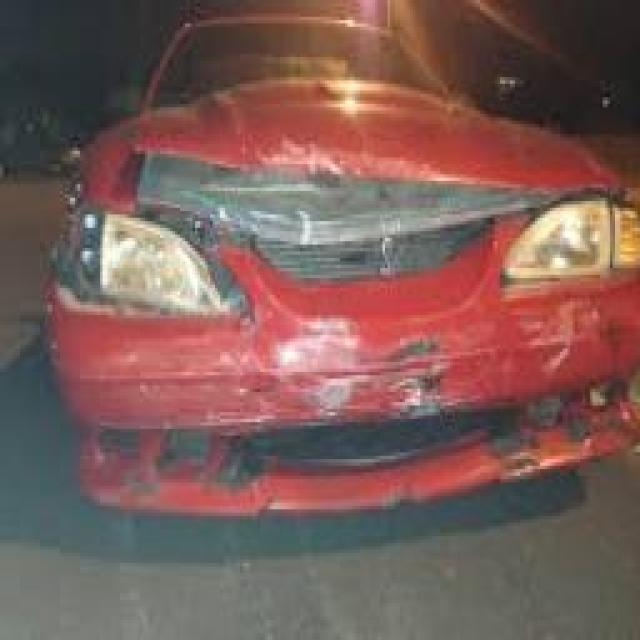replaceable: (121, 331, 640, 489), (127, 110, 443, 225), (71, 236, 274, 324)
